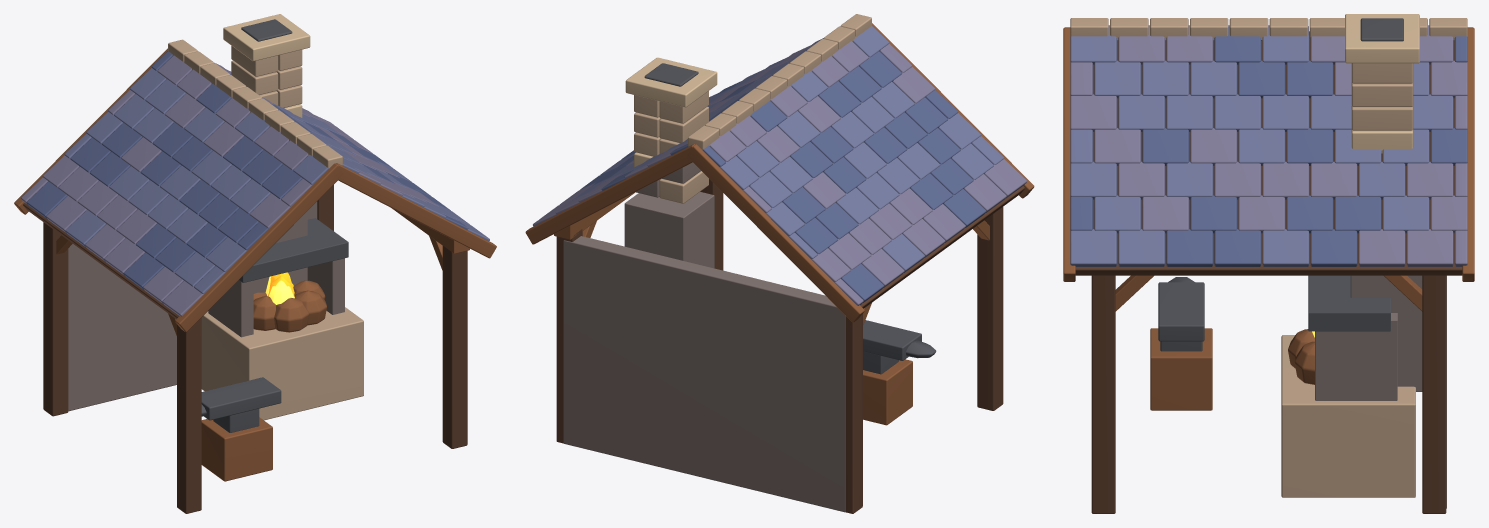
File: ashwick-blacksmith-workshop.meshopt.glb
3 renders of one model, left to right at view 1: azimuth 30°, elevation 25°; view 2: azimuth 150°, elevation 25°; view 3: azimuth 270°, elevation 25°, orthographic. The views are drawn at different scales.
Parts seen in each view (by area): view 1: Overlapping slate courses.003, Overlapping slate courses.004, Overlapping slate courses.005, Smithy posts.001, Rear wall.001, Forge hearth.001, Carved verge.001, Ridge caps.001, Anvil foot.001, Smoke hood lintel.001, Forge cheeks.001, Chimney masonry.003 (+8 smaller); view 2: Rear wall.001, Overlapping slate courses.003, Overlapping slate courses.004, Overlapping slate courses.005, Smithy posts.001, Carved verge.001, Forge flue breast.001, Chimney masonry.003, Ridge caps.001, Anvil foot.001, Chimney crown.001, Anvil face.001 (+4 smaller); view 3: Overlapping slate courses.003, Overlapping slate courses.004, Overlapping slate courses.005, Forge hearth.001, Smithy posts.001, Roof decking.001, Ridge caps.001, Forge cheeks.001, Chimney masonry.003, Carved verge.001, Anvil foot.001, Smoke hood lintel.001 (+8 smaller).
Part boxes in pixels (left/top/right/bottom): Overlapping slate courses.003: left=64, top=68, right=489, bottom=293; Overlapping slate courses.004: left=21, top=55, right=438, bottom=316; Overlapping slate courses.005: left=27, top=51, right=468, bottom=289; Smithy posts.001: left=43, top=185, right=467, bottom=513; Rear wall.001: left=68, top=201, right=317, bottom=411; Forge hearth.001: left=201, top=307, right=363, bottom=420; Carved verge.001: left=14, top=48, right=496, bottom=332; Ridge caps.001: left=168, top=39, right=342, bottom=168; Anvil foot.001: left=201, top=417, right=272, bottom=481; Smoke hood lintel.001: left=239, top=218, right=348, bottom=282; Forge cheeks.001: left=208, top=258, right=344, bottom=337; Chimney masonry.003: left=231, top=46, right=302, bottom=107; Rear wall.001: left=563, top=236, right=845, bottom=512; Overlapping slate courses.003: left=572, top=26, right=1004, bottom=272; Overlapping slate courses.004: left=533, top=38, right=1026, bottom=305; Overlapping slate courses.005: left=580, top=51, right=986, bottom=302; Smithy posts.001: left=556, top=179, right=1003, bottom=513; Carved verge.001: left=525, top=23, right=1034, bottom=322; Forge flue breast.001: left=624, top=192, right=714, bottom=268; Chimney masonry.003: left=634, top=91, right=708, bottom=203; Ridge caps.001: left=688, top=14, right=871, bottom=149; Anvil foot.001: left=863, top=359, right=912, bottom=425; Chimney crown.001: left=625, top=57, right=717, bottom=107; Anvil face.001: left=863, top=320, right=921, bottom=360; Overlapping slate courses.003: left=1070, top=25, right=1453, bottom=266; Overlapping slate courses.004: left=1070, top=25, right=1467, bottom=266; Overlapping slate courses.005: left=1070, top=27, right=1467, bottom=266; Forge hearth.001: left=1281, top=335, right=1415, bottom=497; Smithy posts.001: left=1091, top=275, right=1446, bottom=513; Roof decking.001: left=1075, top=31, right=1462, bottom=275; Ridge caps.001: left=1070, top=18, right=1467, bottom=40; Forge cheeks.001: left=1315, top=313, right=1397, bottom=400; Chimney masonry.003: left=1351, top=63, right=1413, bottom=130; Carved verge.001: left=1063, top=27, right=1474, bottom=281; Anvil foot.001: left=1150, top=328, right=1212, bottom=410; Smoke hood lintel.001: left=1308, top=275, right=1390, bottom=331.
Bounding box in the file's own units: 4.73 × 5 × 4.28.
